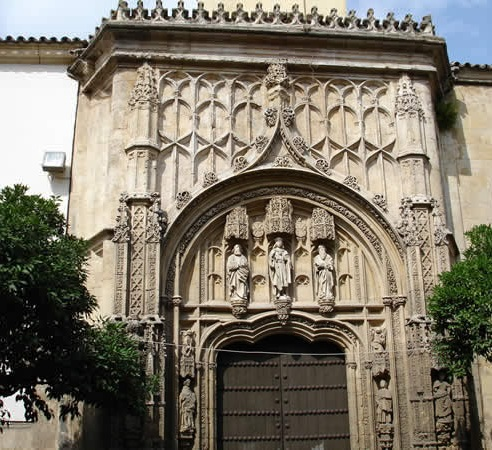arco-conopial: (177, 115, 381, 209)
arco-trilobulado: (205, 320, 355, 363)
